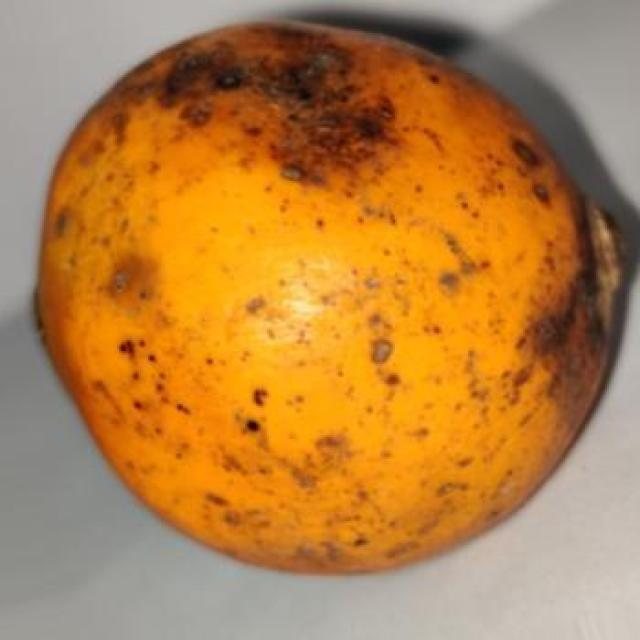good: (31, 20, 629, 576)
